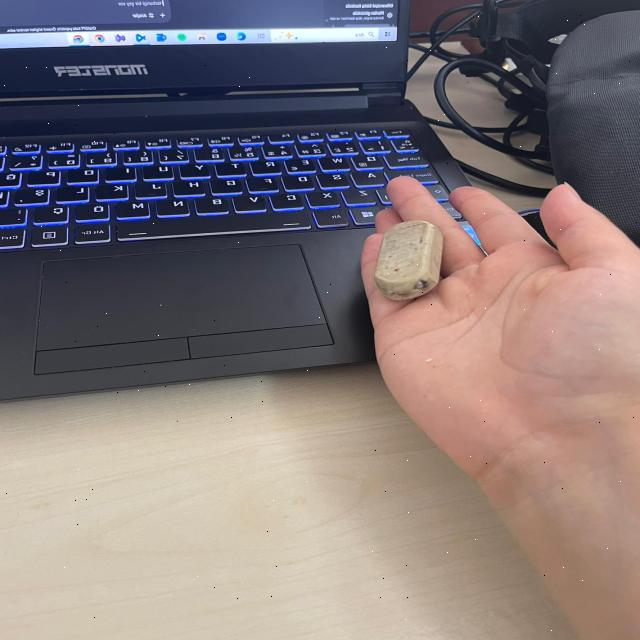eraser: (368, 216, 446, 303)
